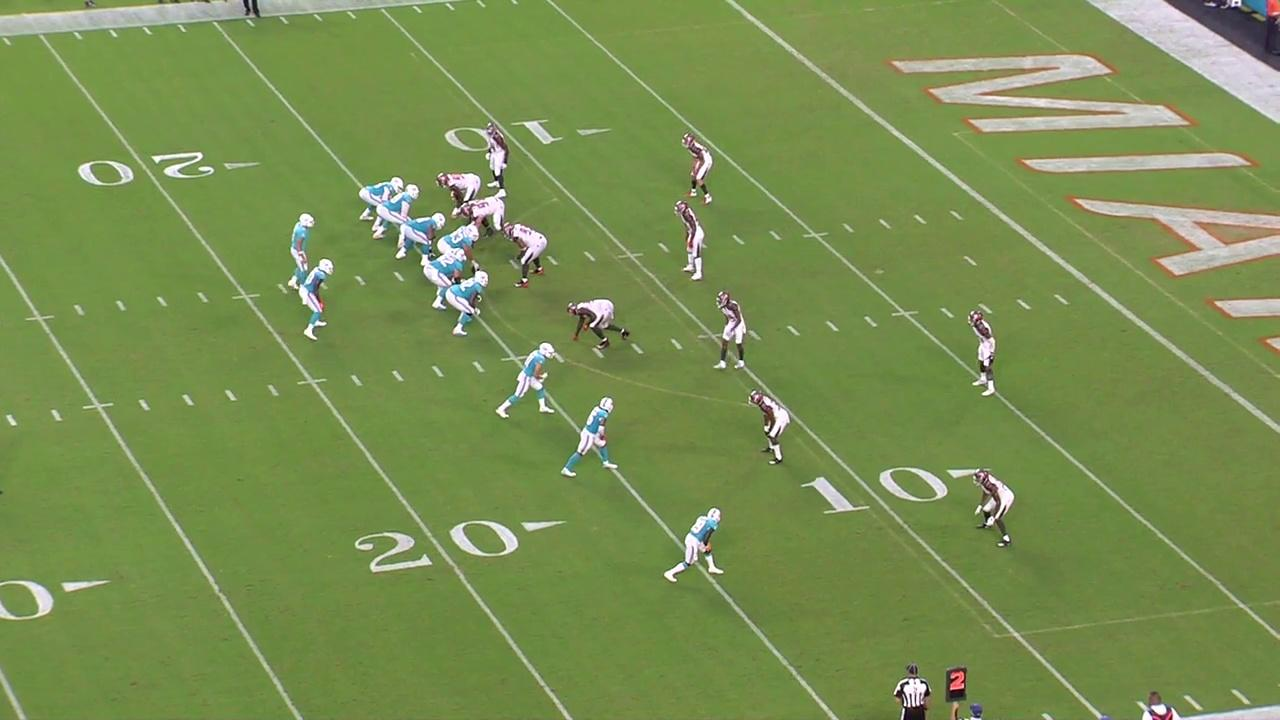five_hash: (80, 399, 118, 412), (293, 376, 331, 388), (24, 312, 56, 324), (889, 307, 920, 319), (230, 291, 262, 302), (802, 230, 832, 241), (618, 251, 644, 259), (499, 356, 528, 363)
hash: (1050, 290, 1071, 307), (2, 411, 20, 430), (47, 407, 67, 424), (428, 362, 446, 379), (667, 336, 685, 353), (862, 313, 880, 330), (628, 341, 647, 357), (589, 344, 606, 361), (70, 302, 88, 318), (348, 372, 366, 388), (136, 397, 153, 413), (179, 392, 195, 409), (224, 388, 240, 405), (976, 301, 994, 316), (388, 369, 407, 383), (392, 268, 407, 285), (745, 328, 763, 342), (766, 229, 785, 242), (469, 360, 485, 375), (581, 250, 597, 265), (785, 324, 801, 339), (823, 319, 840, 333), (939, 306, 956, 320), (1015, 298, 1032, 312), (911, 212, 928, 226), (729, 233, 746, 247), (655, 241, 672, 255), (545, 253, 560, 268), (113, 300, 129, 314), (554, 351, 570, 365), (155, 295, 170, 309), (196, 290, 210, 305), (841, 221, 856, 235), (506, 259, 522, 272), (948, 209, 965, 221), (877, 217, 892, 230), (266, 382, 278, 398), (354, 274, 368, 287)
number: (351, 515, 520, 576), (799, 464, 951, 520), (73, 149, 216, 192)
